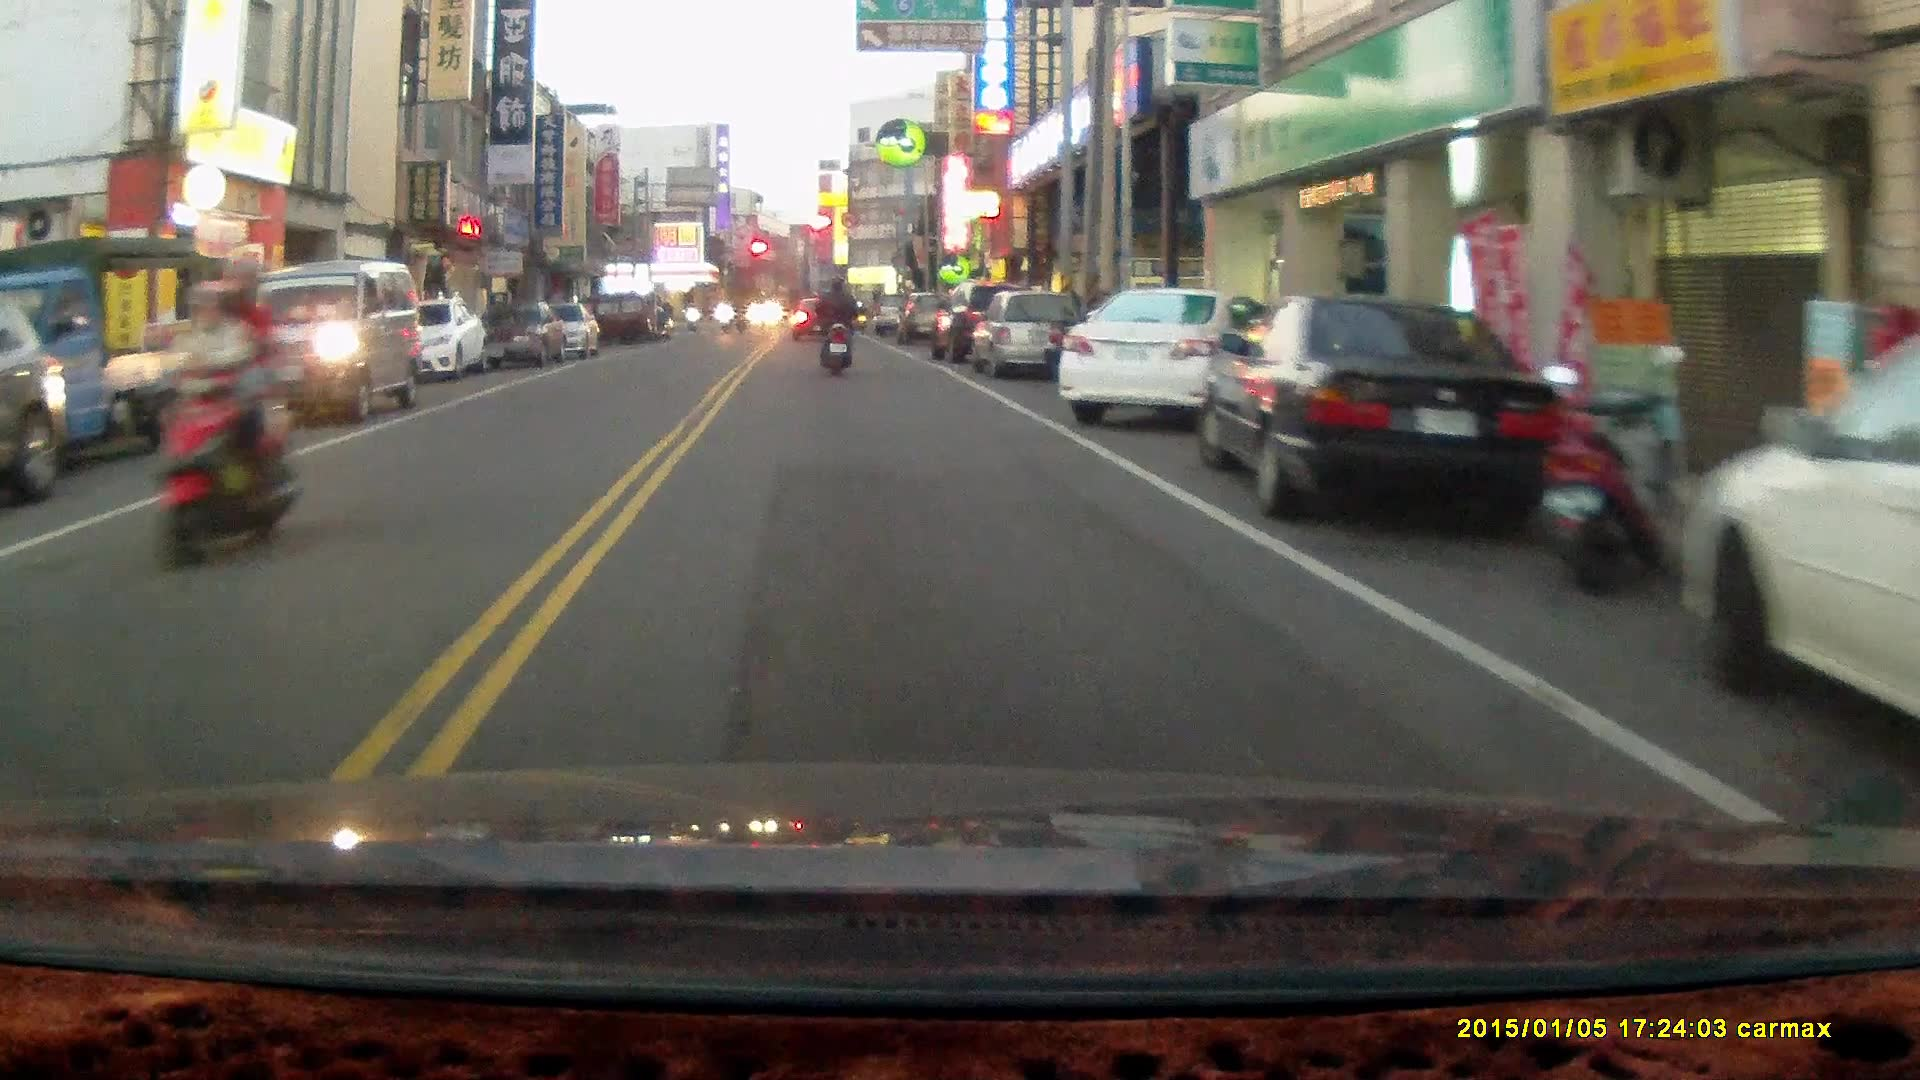rider: (145, 247, 304, 574), (812, 271, 859, 376)
vehicle: (1673, 299, 1920, 766), (1193, 298, 1567, 529), (3, 234, 230, 491), (236, 263, 426, 424), (1056, 285, 1266, 426), (1, 285, 73, 511), (963, 287, 1085, 381), (372, 297, 486, 388)
